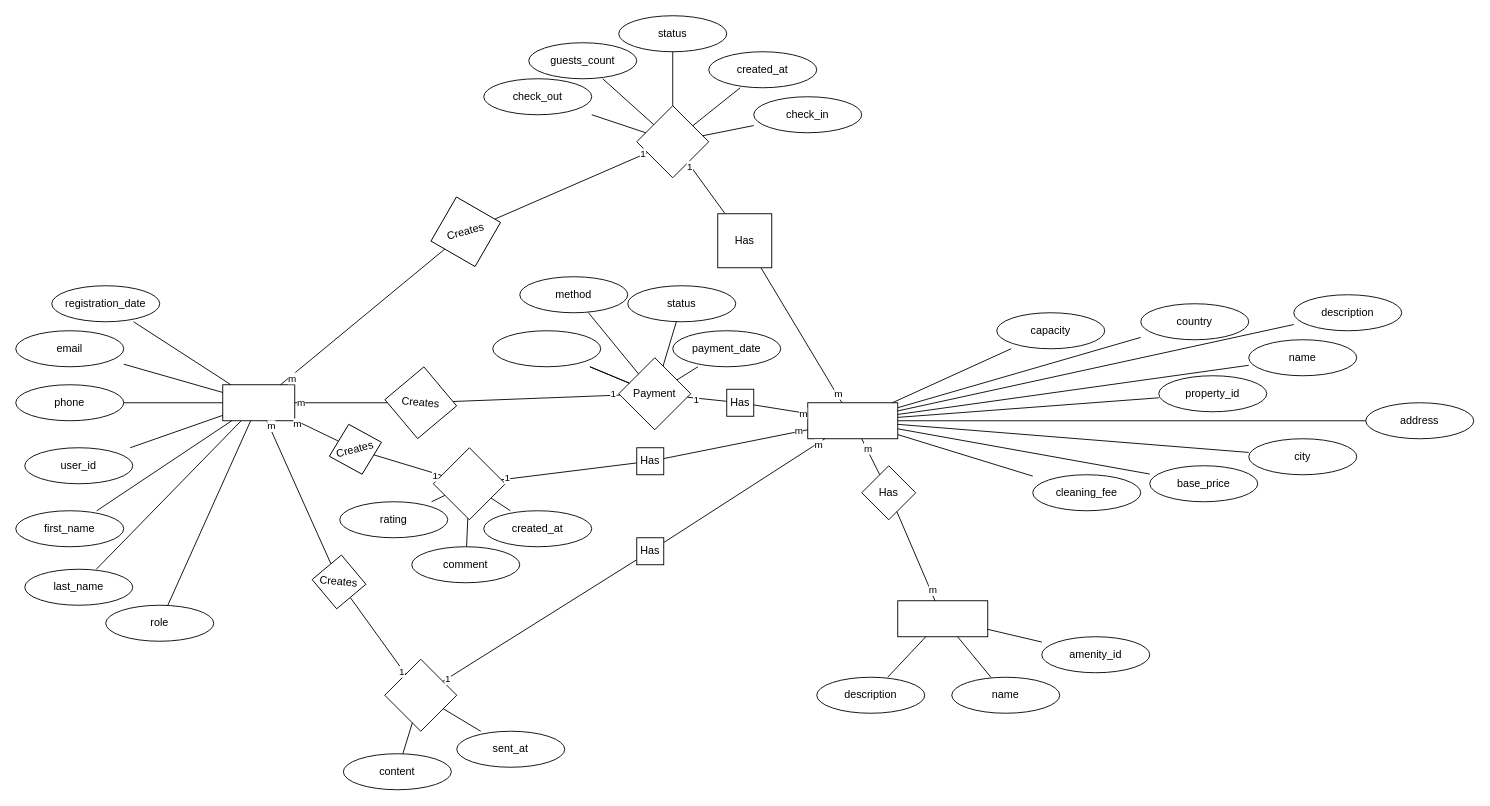
The diagram is 1490 pixels wide and 806 high, and some of its shapes have lost their labels. The centre of each missing label's shape, as x and y in pixels:
"Amenity" goes at point (942, 618).
"amount" goes at point (546, 348).
"Message" goes at point (420, 694).
"Property" goes at point (852, 420).
"Reservation" goes at point (672, 141).
"Review" goes at point (468, 483).
"User" goes at point (258, 402).
